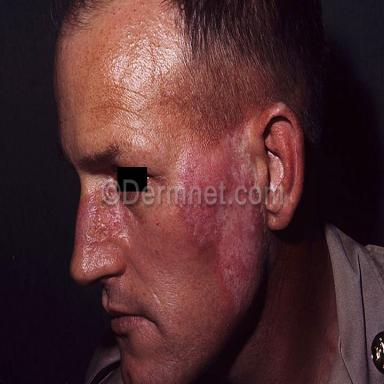Lupus-Erythematosus-Chronicus-Discoides: (178, 205, 271, 320), (175, 118, 261, 185), (75, 188, 130, 244)
